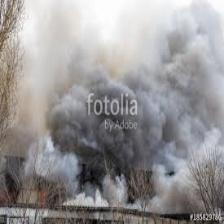smoke: (20, 13, 224, 203)
